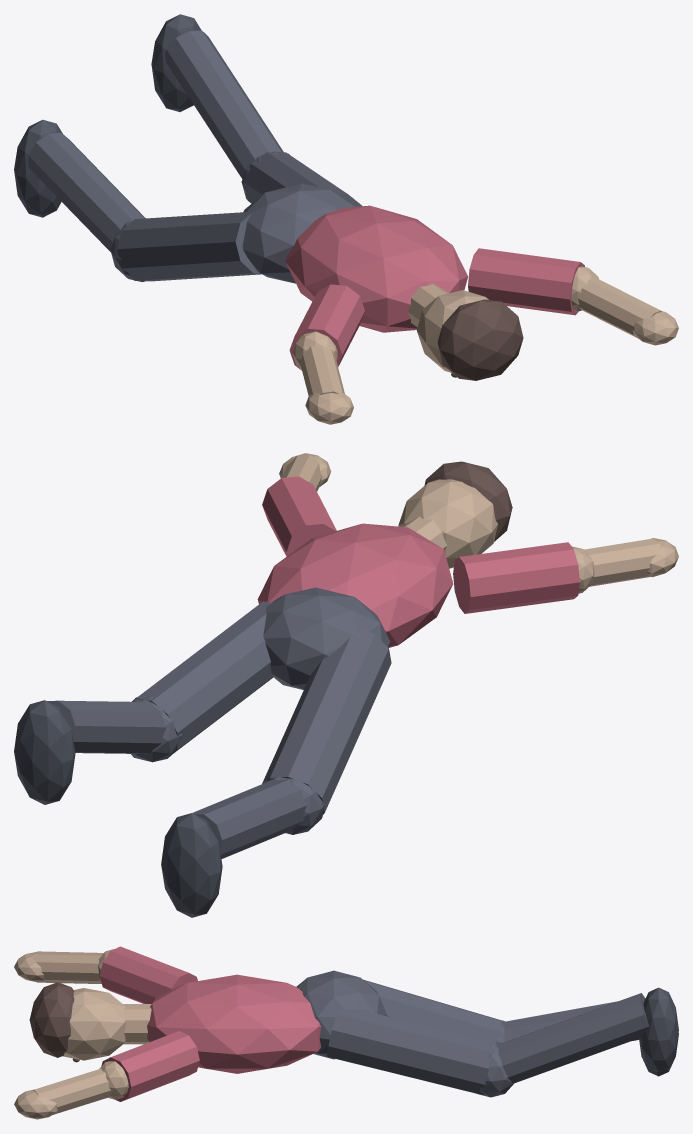
3 renders of one model, top to bottom at view 1: azimuth 30°, elevation 25°; view 2: azimuth 150°, elevation 25°; view 3: azimuth 270°, elevation 25°, orthographic. The views are drawn at different scales.
Parts seen in each view (by area): view 1: world; view 2: world; view 3: world.
Part boxes in pixels (x1,y1,x2,y2): world: (14, 14, 678, 424); world: (14, 453, 678, 917); world: (14, 946, 678, 1119).
Size of the model in its own units: 1.17 by 0.52 by 2.13.
